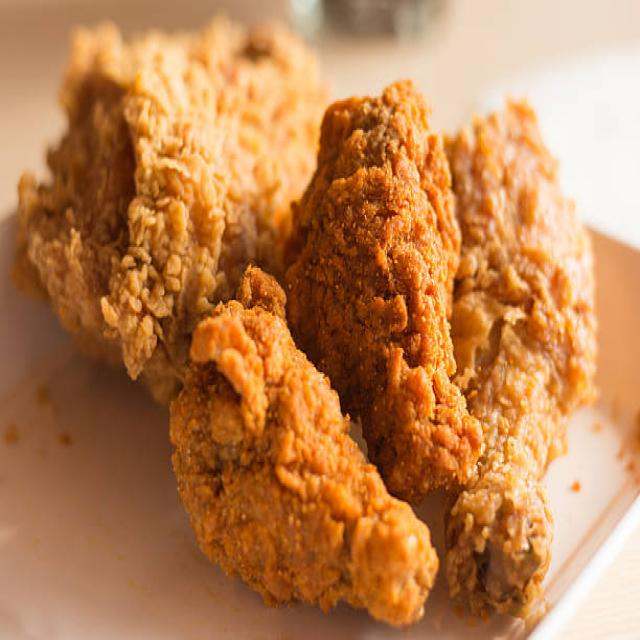Frango: (9, 9, 601, 640)
